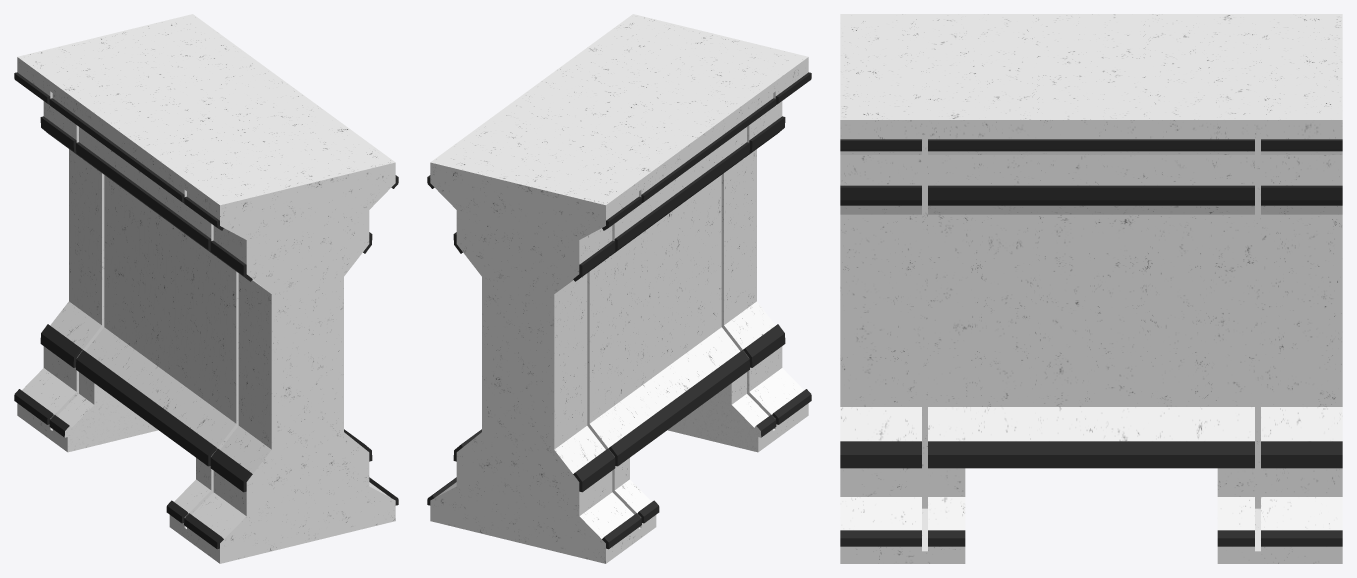
The model's file is wallwithhole.fbx.
The picture shows the model from 3 angles, left to right: view 1: azimuth 30°, elevation 25°; view 2: azimuth 150°, elevation 25°; view 3: azimuth 270°, elevation 25°; orthographic projection. The views are drawn at different scales.
Visible parts, largest first — view 1: Cube.073; view 2: Cube.073; view 3: Cube.073.
Boxes of the visible parts, left/top/right/bottom form: Cube.073: left=14, top=14, right=398, bottom=563; Cube.073: left=427, top=14, right=811, bottom=563; Cube.073: left=840, top=14, right=1342, bottom=563.
Bounding box in the file's own units: 4.14 × 7.8 × 8.
